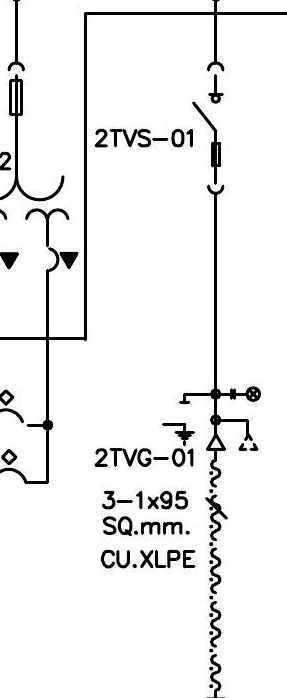22_ds: (191, 61, 226, 196)
22_gs: (161, 401, 196, 447)
22_ll: (230, 386, 262, 403)
terminator_w_future: (205, 419, 259, 451)
